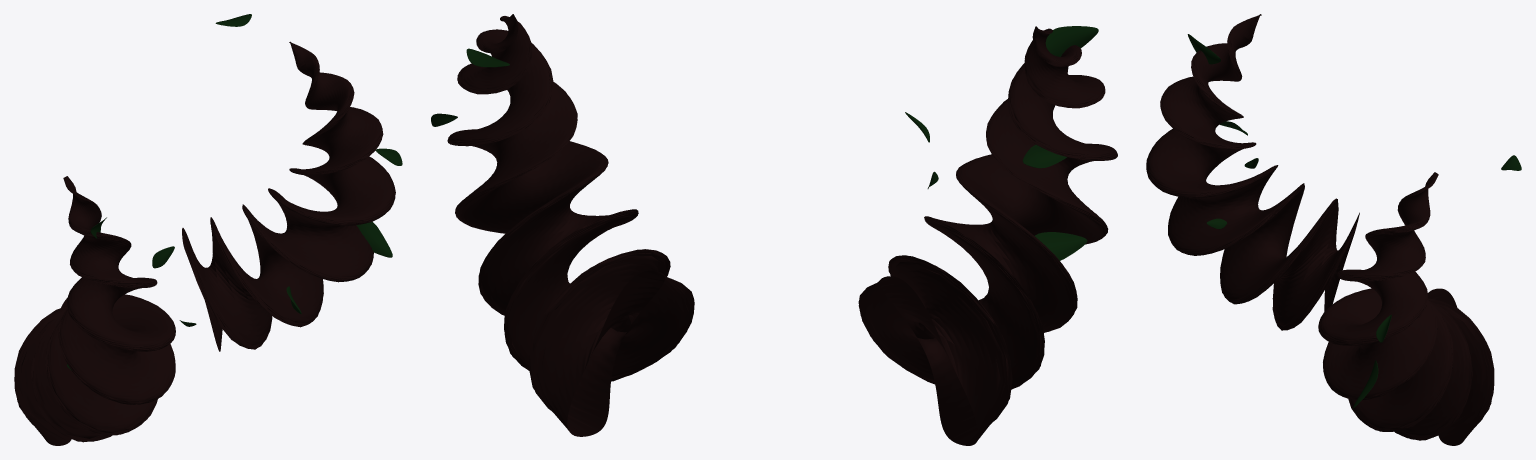
3 renders of one model, left to right at view 1: azimuth 30°, elevation 25°; view 2: azimuth 150°, elevation 25°; view 3: azimuth 270°, elevation 25°, orthographic. The views are drawn at different scales.
Visible parts, largest first — view 1: NurbsPath, leavevs_tail_008; view 2: NurbsPath, leavevs_tail_008; view 3: NurbsPath, leavevs_tail_008.
Part boxes in pixels (left/top/right/bottom): NurbsPath: left=14, top=41, right=395, bottom=445; leavevs_tail_008: left=67, top=14, right=402, bottom=370; NurbsPath: left=447, top=14, right=1117, bottom=445; leavevs_tail_008: left=431, top=26, right=1098, bottom=260; NurbsPath: left=1146, top=14, right=1494, bottom=445; leavevs_tail_008: left=1187, top=34, right=1521, bottom=408.
Bounding box in the file's own units: 75.4 × 56.8 × 51.5.
